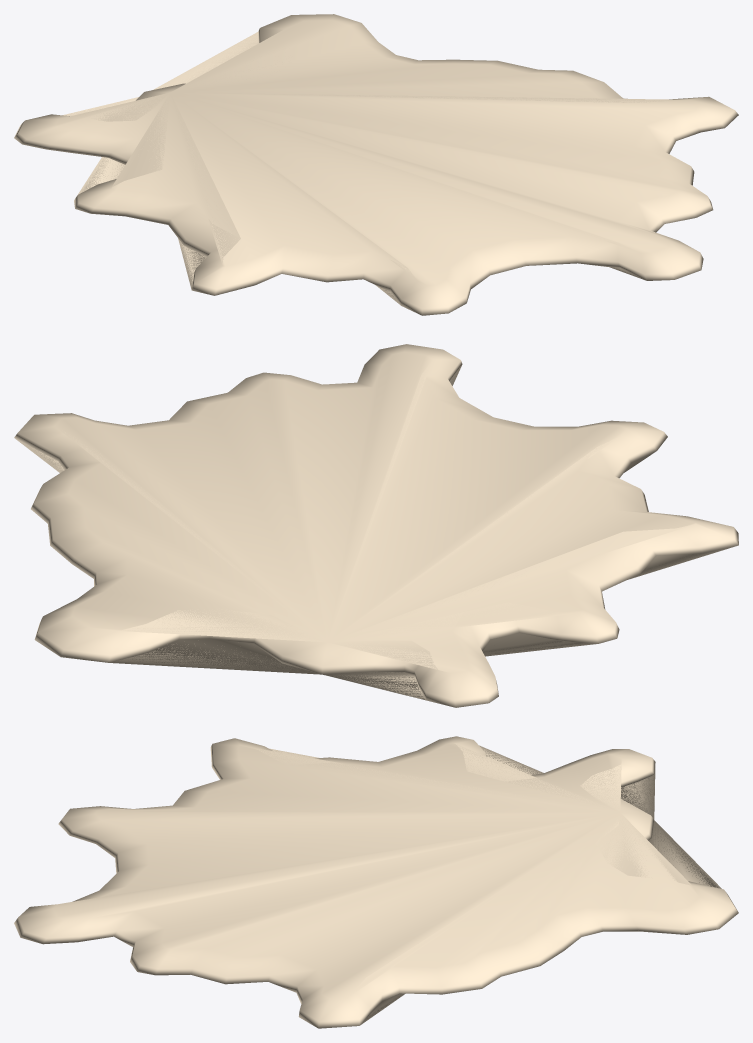
File: CondimentMayo.fbx
The picture shows the model from 3 angles, top to bottom: view 1: azimuth 30°, elevation 25°; view 2: azimuth 150°, elevation 25°; view 3: azimuth 270°, elevation 25°; orthographic projection. The views are drawn at different scales.
Parts seen in each view (by area): view 1: Condiment Mayo; view 2: Condiment Mayo; view 3: Condiment Mayo.
Boxes of the visible parts, x1,y1,x2,y2 form: Condiment Mayo: (14, 14, 738, 315); Condiment Mayo: (14, 344, 738, 707); Condiment Mayo: (14, 736, 738, 1028).
Size of the model in its own units: 174 by 3.75 by 185.
